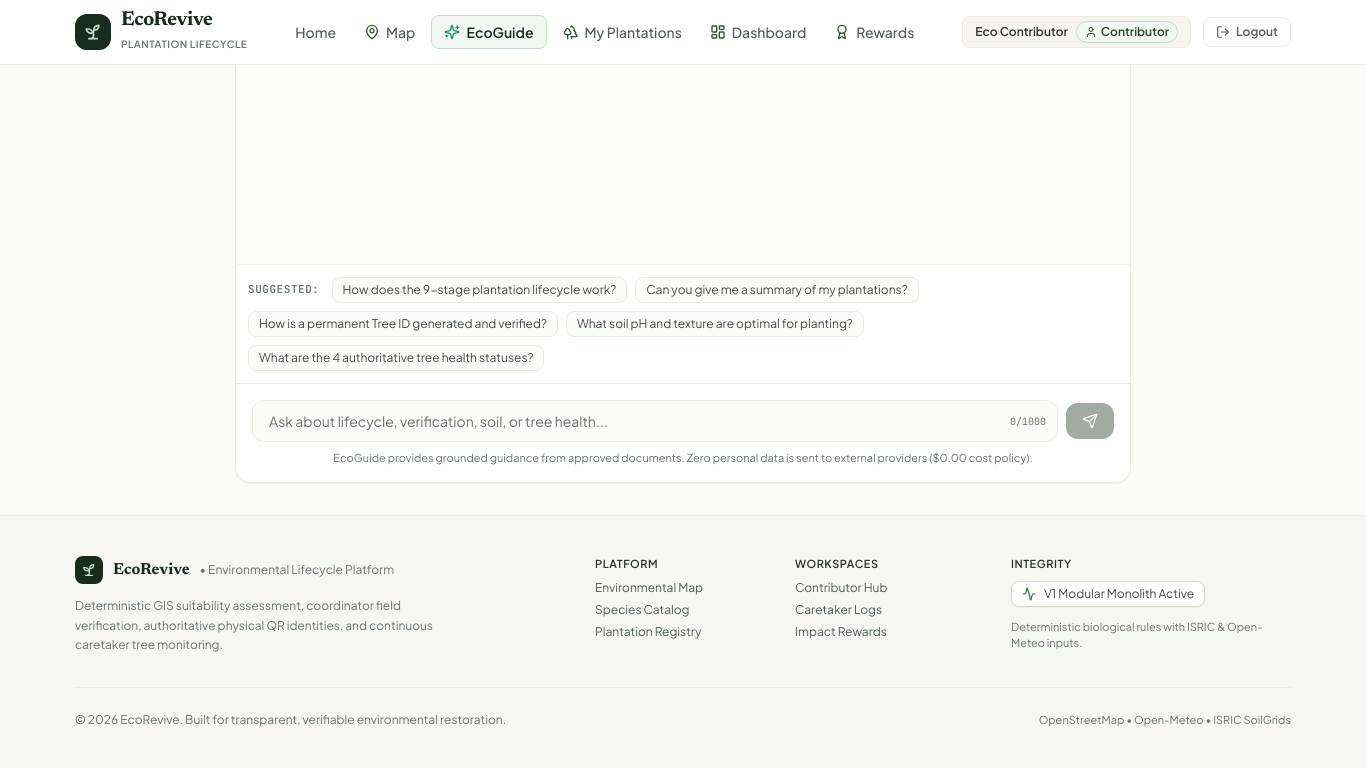
Test case: Frontend V2-M2 — EcoGuide Knowledge Assistant › should send user message, display loading state, and render response with sources
(page scrolled)
Type "Explain the 9 stages" into the field with test id "ecoguide-input" at coordinates (655, 420), box [252,400,1058,442]
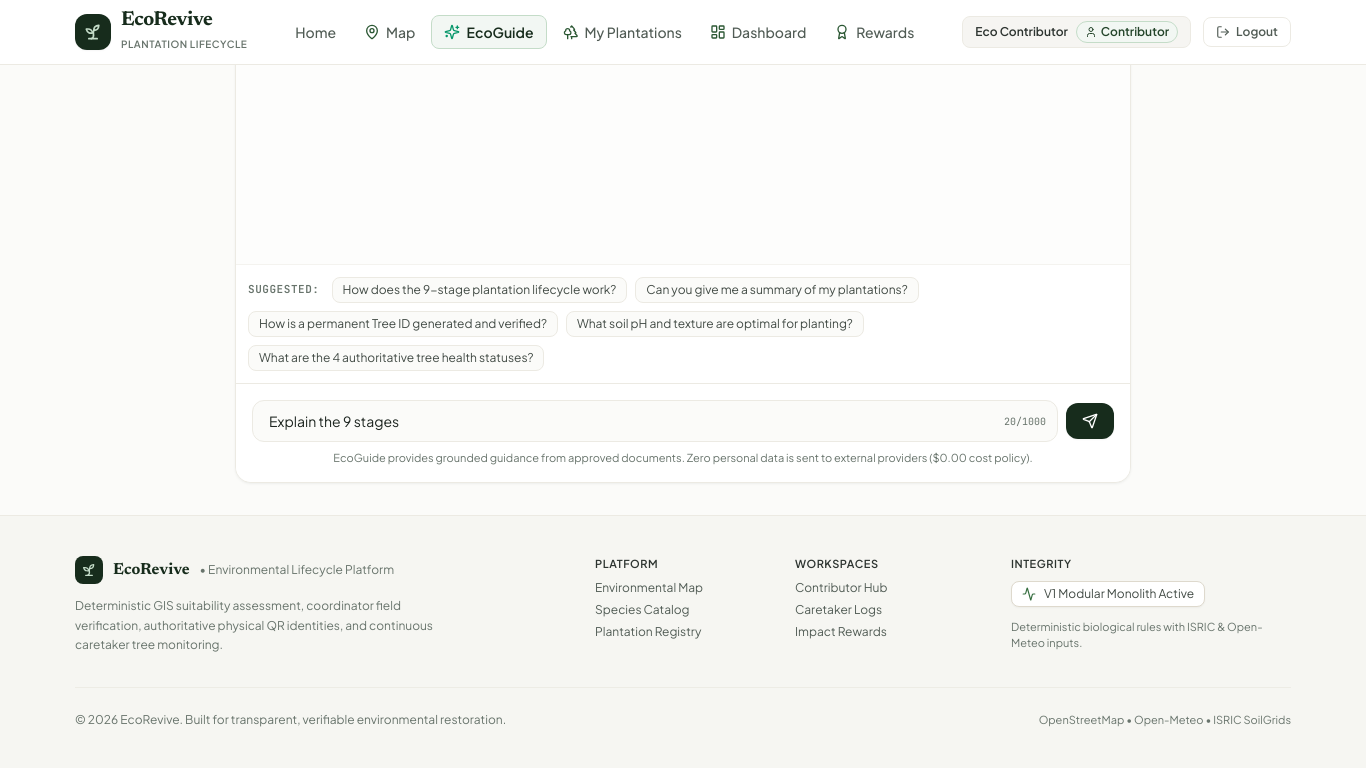
Now the text "20/1000" is shown, box [1004,413,1046,428]
Click the button with test id "ecoguide-send" at coordinates (1090, 420), box [1066,402,1114,438]
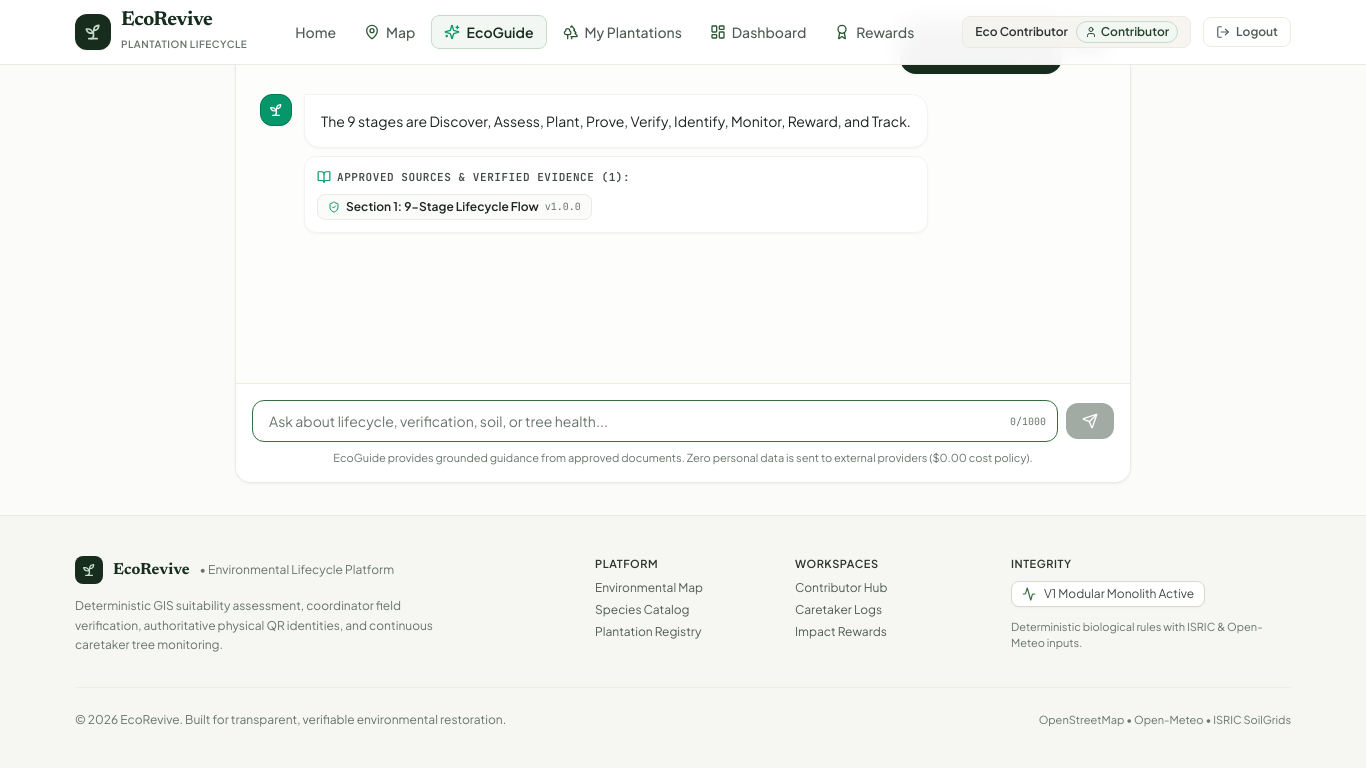
Now the text "The 9 stages are Discover, Assess, Plant" is shown, box [321,112,911,130]
Now the text "Section 1: 9-Stage Lifecycle Flow" is shown, box [346,198,539,214]
Now the text "v1.0.0" is shown, box [545,198,581,214]
